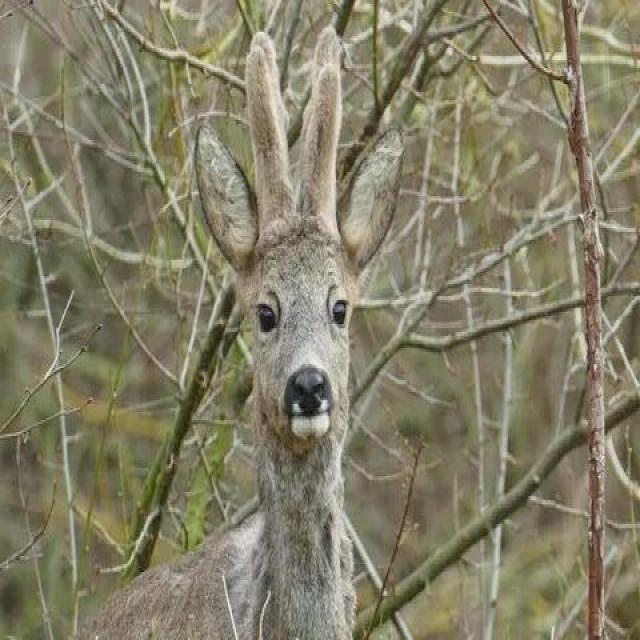deer: (130, 71, 420, 618)
